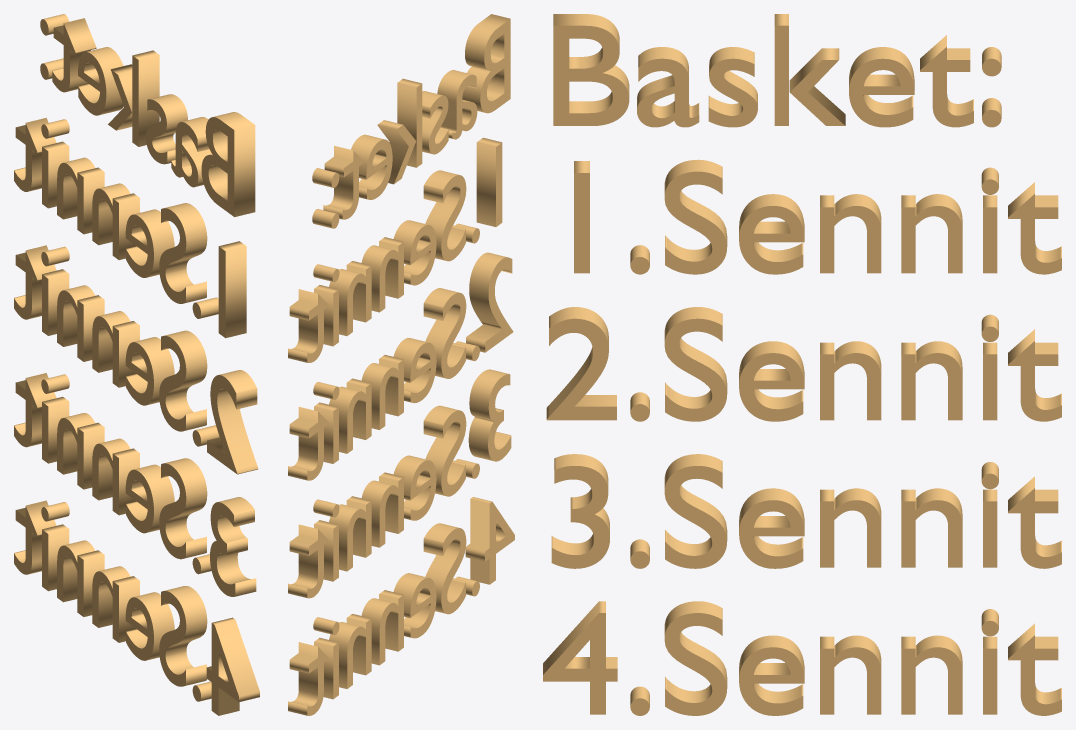
The model's file is seventh.fbx.
3 views of the same model, side by side, from view 1: azimuth 30°, elevation 25°; view 2: azimuth 150°, elevation 25°; view 3: azimuth 270°, elevation 25° (orthographic). The views are drawn at different scales.
Parts seen in each view (by area): view 1: Text; view 2: Text; view 3: Text.
Part boxes in pixels (x1,y1,x2,y2): Text: [14, 14, 259, 715]; Text: [288, 14, 514, 715]; Text: [543, 14, 1061, 715].
Size of the model in its own units: 17.2 by 469 by 320.
